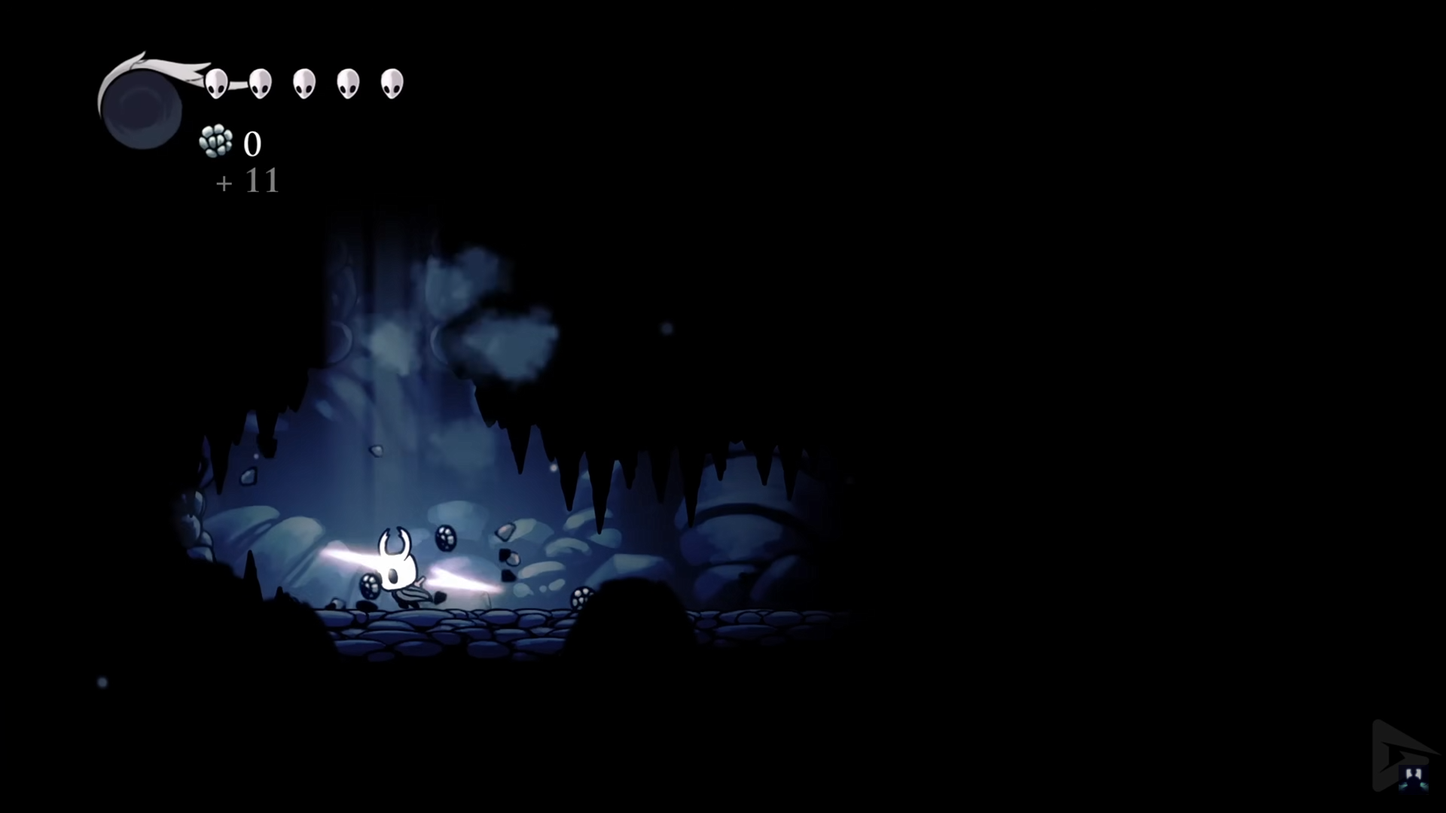HK: (362, 525, 427, 617)
